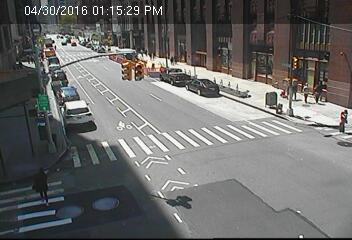neg: (143, 60, 168, 93), (43, 62, 66, 93), (176, 56, 199, 86), (110, 58, 127, 80)
pos: (25, 162, 58, 207), (333, 103, 351, 134), (313, 79, 328, 100), (299, 80, 314, 100)
